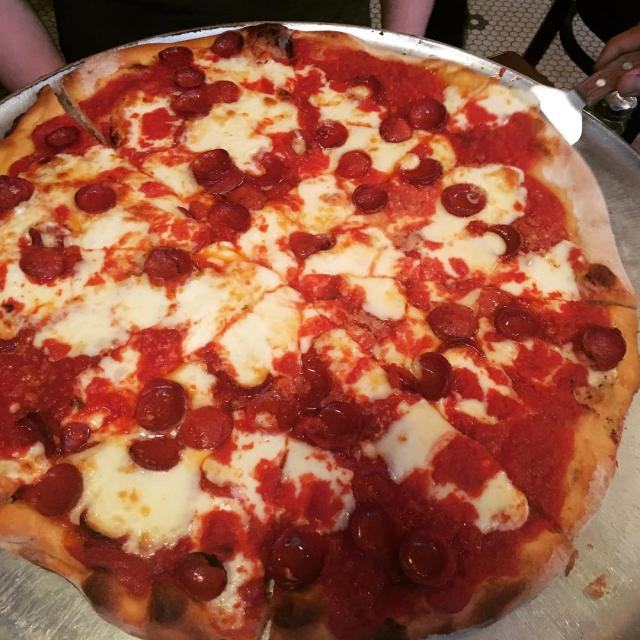pepperoni: (272, 522, 328, 589), (399, 527, 457, 590), (169, 550, 235, 602), (302, 400, 368, 449), (132, 378, 186, 435), (35, 462, 85, 522), (244, 387, 302, 434), (350, 503, 399, 557), (178, 405, 232, 453), (425, 299, 483, 342), (580, 323, 628, 373), (204, 198, 262, 239), (414, 347, 454, 405), (126, 434, 186, 470), (296, 353, 335, 408), (492, 304, 543, 346), (441, 178, 490, 220), (18, 244, 68, 282), (72, 182, 122, 218), (290, 225, 338, 258), (348, 182, 392, 214), (311, 118, 355, 150), (406, 99, 448, 132), (242, 154, 285, 186), (142, 246, 179, 282), (489, 222, 524, 260), (28, 410, 58, 454), (169, 89, 213, 118), (0, 172, 28, 216), (438, 337, 487, 362), (224, 185, 269, 211), (57, 421, 93, 452), (334, 151, 375, 178), (204, 78, 242, 107), (376, 115, 415, 142), (210, 29, 246, 58), (168, 246, 194, 282), (44, 125, 83, 149), (206, 172, 248, 193), (401, 156, 441, 178), (176, 199, 210, 224), (158, 45, 196, 66), (171, 66, 207, 88), (196, 149, 228, 172), (408, 168, 444, 186), (190, 166, 239, 176), (18, 177, 35, 200)
pizza: (0, 21, 640, 640)
